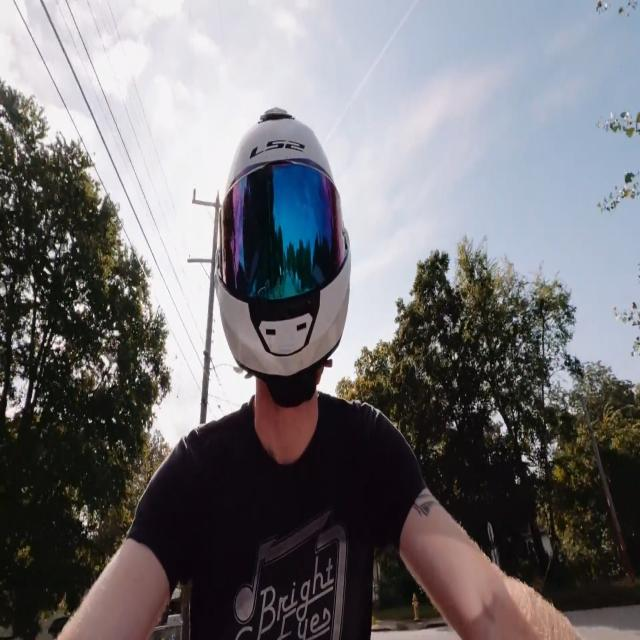Helmet_Wearer: (212, 107, 354, 448)
Person: (46, 105, 511, 640)
